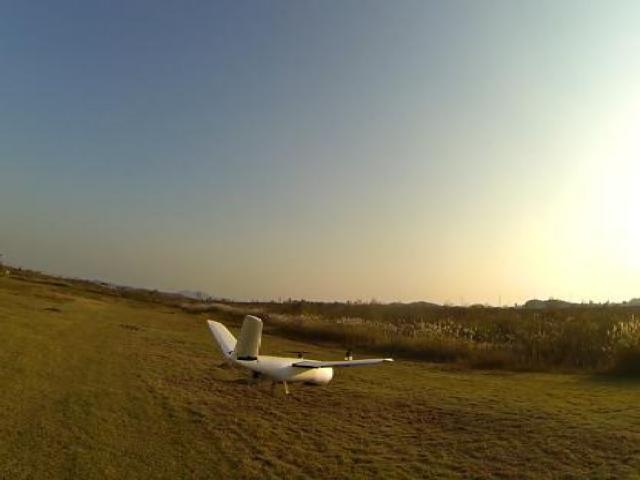uav: (203, 309, 402, 406)
